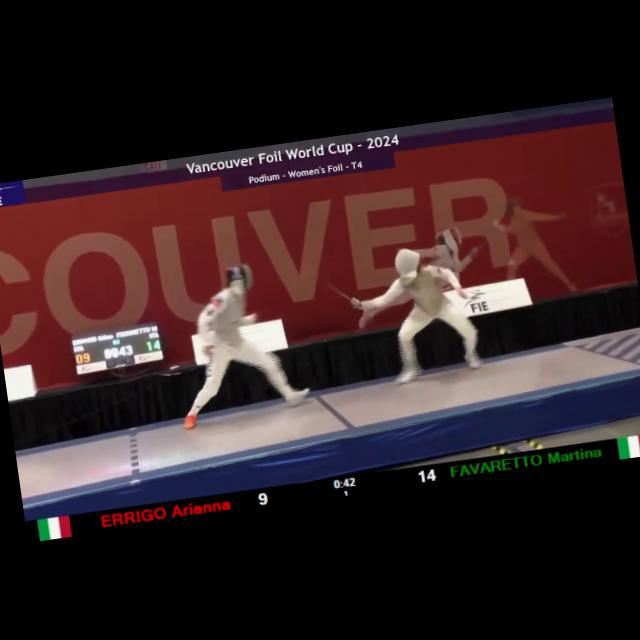blade: (311, 266, 360, 308)
